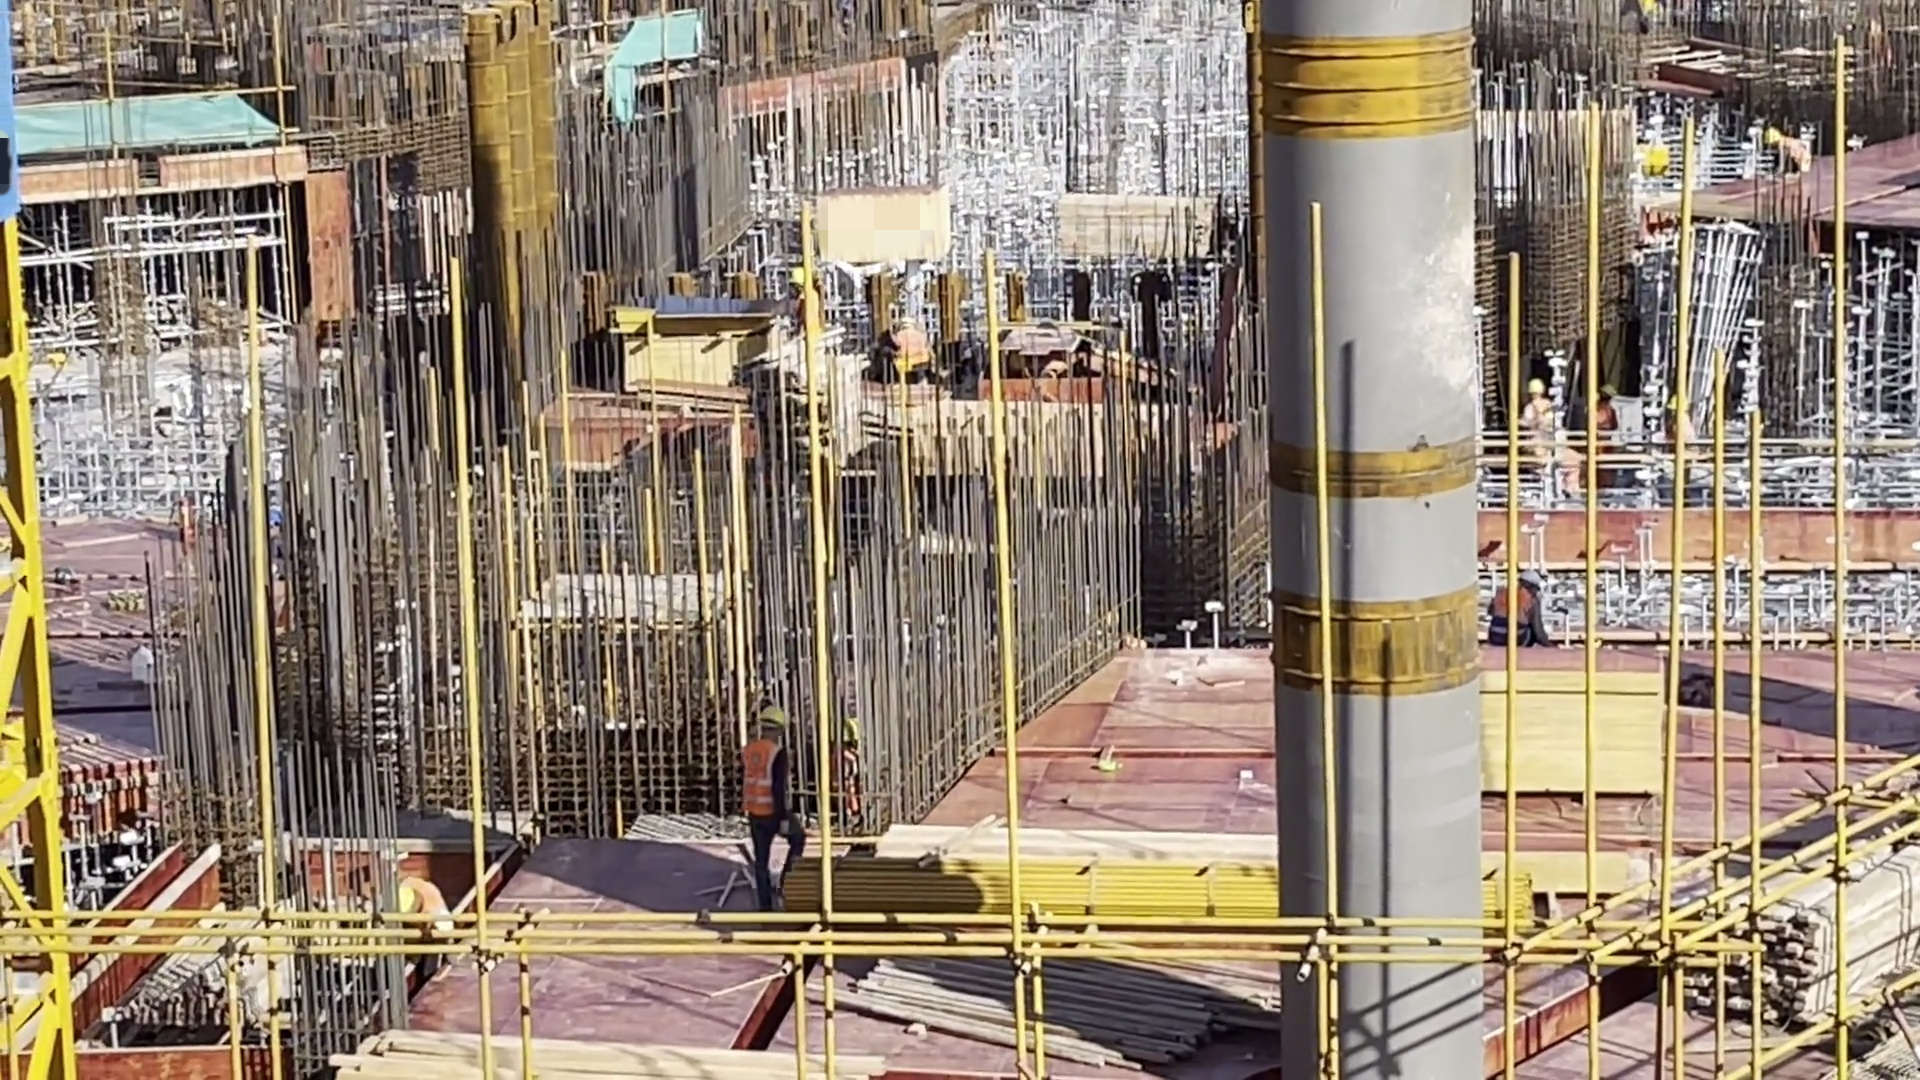helmet: (747, 701, 786, 736), (1518, 566, 1542, 591), (1660, 391, 1686, 412), (1594, 379, 1616, 400), (1530, 377, 1545, 392)
person: (724, 701, 807, 910), (1482, 565, 1551, 647), (878, 317, 941, 383), (1759, 125, 1819, 181), (1519, 380, 1559, 425), (1587, 380, 1617, 430)
vest: (738, 734, 777, 820)
